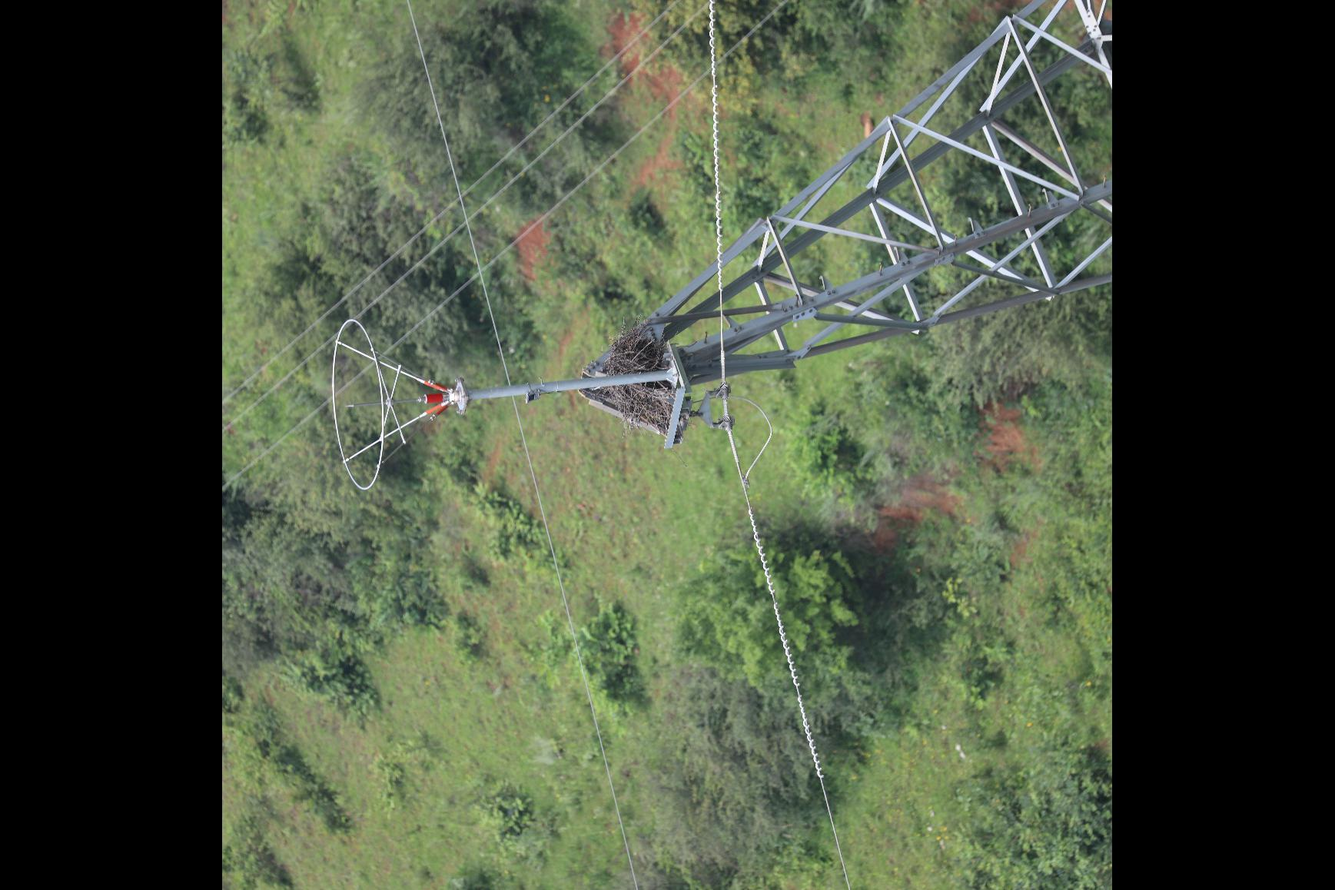nest: (597, 318, 673, 436)
